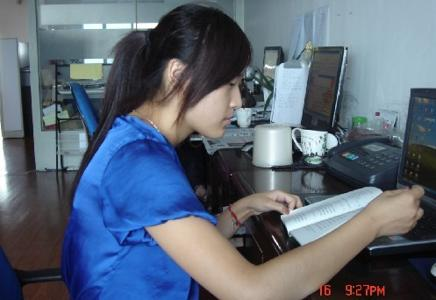person: (62, 4, 425, 300)
